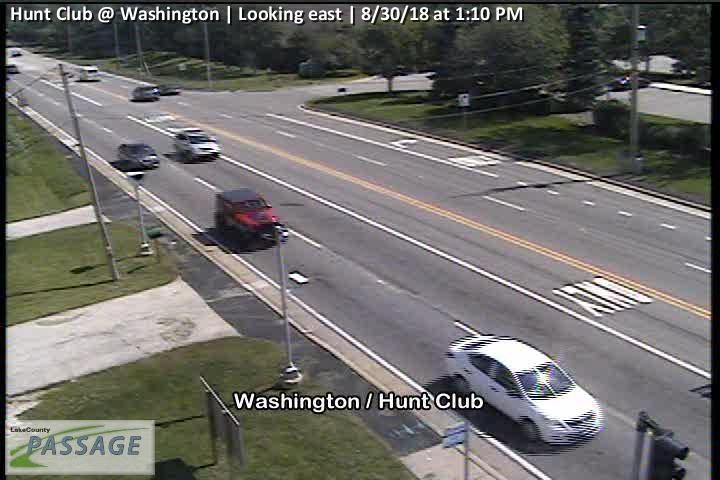Sedan: (445, 333, 603, 450), (212, 189, 286, 249), (175, 129, 221, 161), (118, 144, 161, 171), (130, 86, 161, 101)
